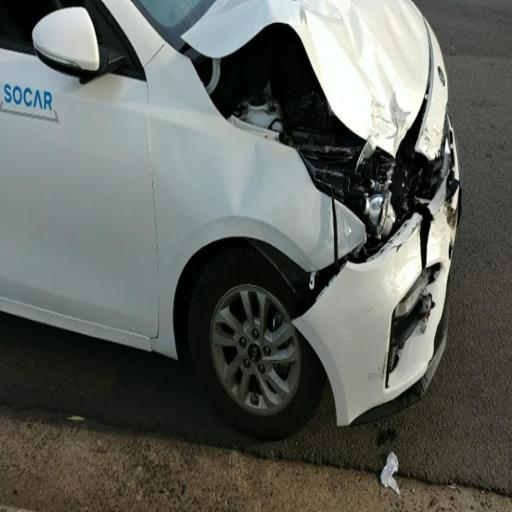broken: (248, 99, 479, 374)
dent: (219, 0, 422, 140)
